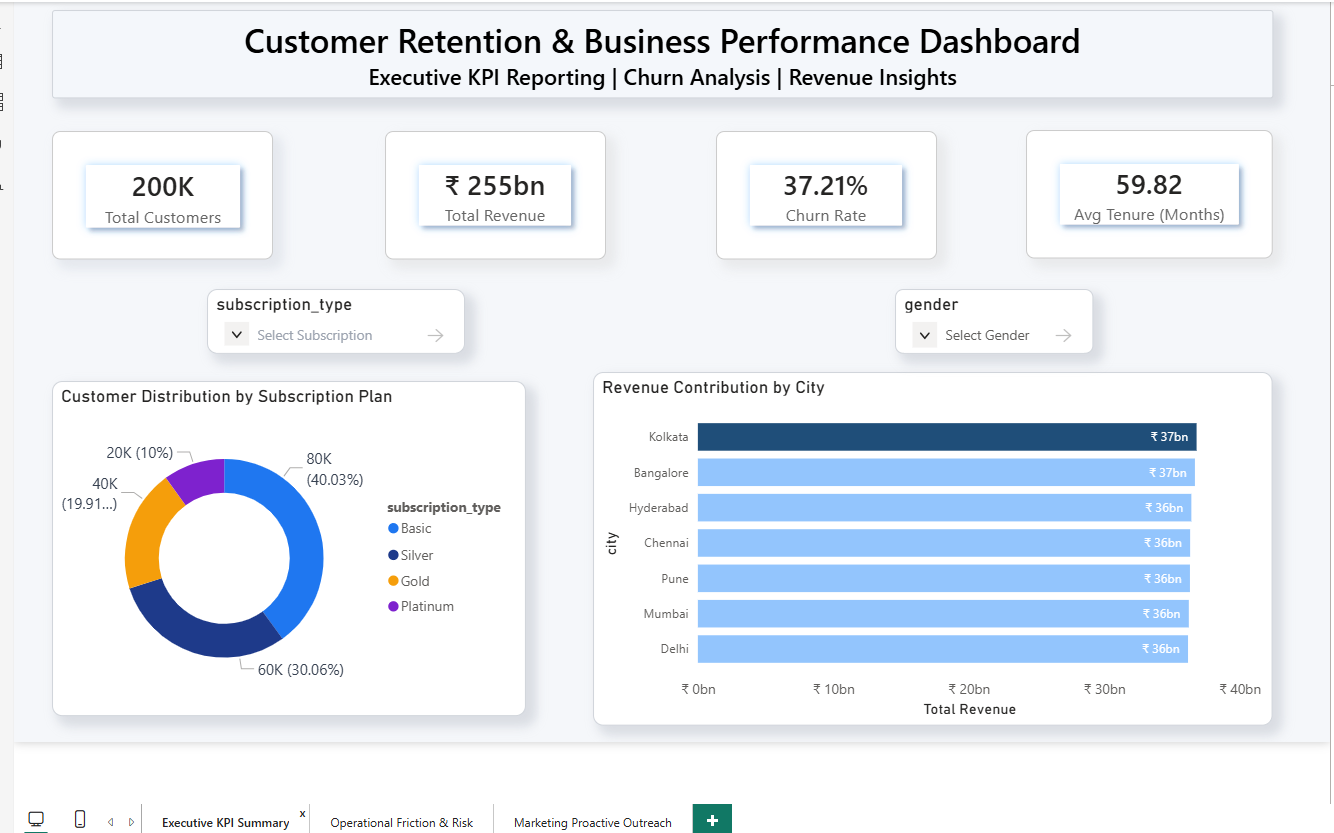

Layout of this report page (visuals, bound fields, positions):
{"tool":"powerbi","page":{"name":"Executive KPI Summary","canvas":[1280,720],"ordinal":0},"visuals":[{"type":"cardVisual","fields":{"Data":["Query1.Total Customers"]},"box":[37,125.5,215,125.5],"z":0},{"type":"cardVisual","fields":{"Data":["Query1.Churn Rate"]},"box":[682.8,125.5,215,125.5],"z":1000},{"type":"cardVisual","fields":{"Data":["Query1.Total Revenue"]},"box":[360.9,125.5,215,125.5],"z":2000},{"type":"cardVisual","fields":{"Data":["Query1.Avg Tenure (Months)"]},"box":[984.3,124.5,240.2,125.5],"z":3000},{"type":"donutChart","title":"Customer Distribution by Subscription Plan","fields":{"Category":["Query1.subscription_type"],"Y":["Query1.Total Customers"]},"box":[37,368.6,461,325.8],"z":4000},{"type":"barChart","title":"Revenue Contribution by City","fields":{"Category":["Query1.city"],"Y":["Query1.Total Revenue"]},"box":[563.2,359.9,661.4,344.3],"z":5000},{"type":"textSlicer","fields":{"Values":["Query1.gender"]},"box":[856.9,279.1,192.6,63.2],"z":6000},{"type":"textSlicer","fields":{"Values":["Query1.subscription_type"]},"box":[187.7,279.1,250.9,63.2],"z":7000},{"type":"textbox","box":[37,7.8,1187.6,85.6],"z":8000}]}

Visuals, with their boxes on the page's 1280x720 design canvas (x1, y1, x2, y2). These are canvas units, not pixel positions in the 1334x833 screenshot, which may show the page scaled, cropped or inside an application window:
cardVisual - Query1.Total Customers: region(37, 126, 252, 251)
cardVisual - Query1.Churn Rate: region(683, 126, 898, 251)
cardVisual - Query1.Total Revenue: region(361, 126, 576, 251)
cardVisual - Query1.Avg Tenure (Months): region(984, 124, 1224, 250)
"Customer Distribution by Subscription Plan" donutChart: region(37, 369, 498, 694)
"Revenue Contribution by City" barChart: region(563, 360, 1225, 704)
textSlicer - Query1.gender: region(857, 279, 1050, 342)
textSlicer - Query1.subscription_type: region(188, 279, 439, 342)
textbox: region(37, 8, 1225, 93)
